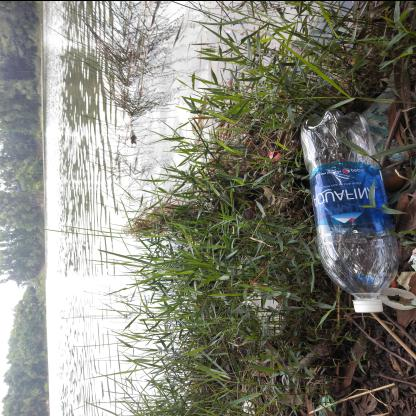plastik: (298, 110, 400, 314)
